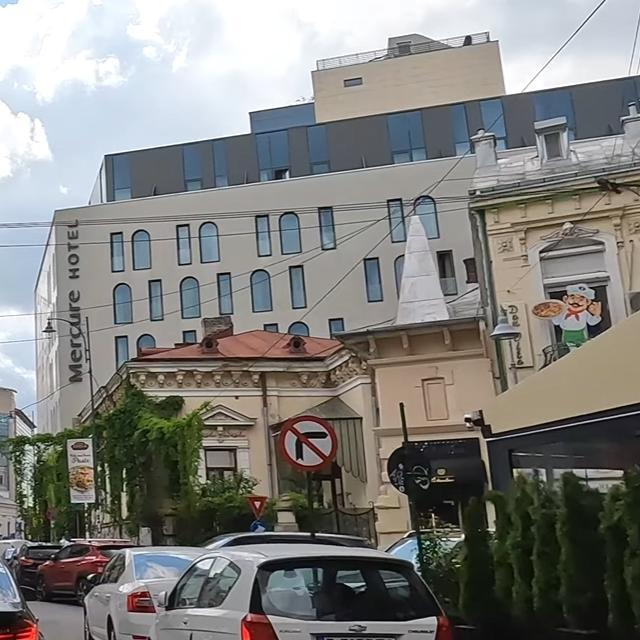prio_give_way: (247, 496, 266, 518)
